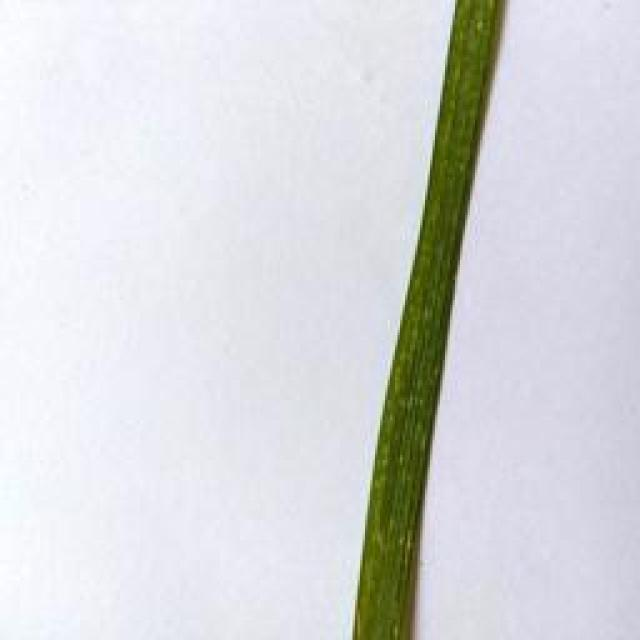Healthy-Plant: (352, 0, 507, 640)
